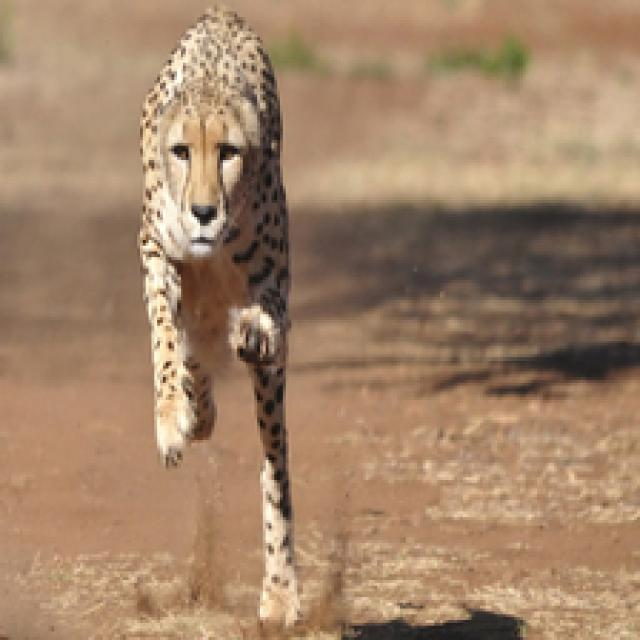cheetah: (129, 5, 366, 628)
